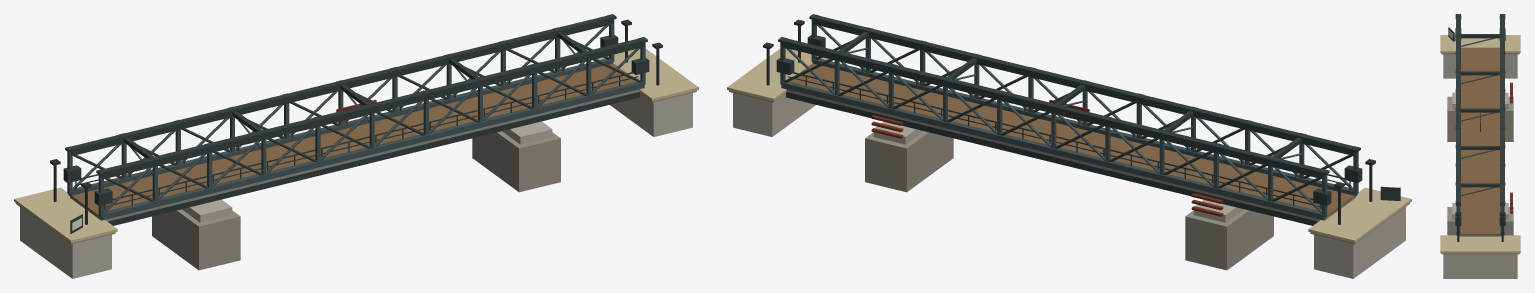
3 views of the same model, side by side, from view 1: azimuth 30°, elevation 25°; view 2: azimuth 150°, elevation 25°; view 3: azimuth 270°, elevation 25° (orthographic). The views are drawn at different scales.
Size of the model in its own units: 3.04 by 0.5348 by 0.4775.
